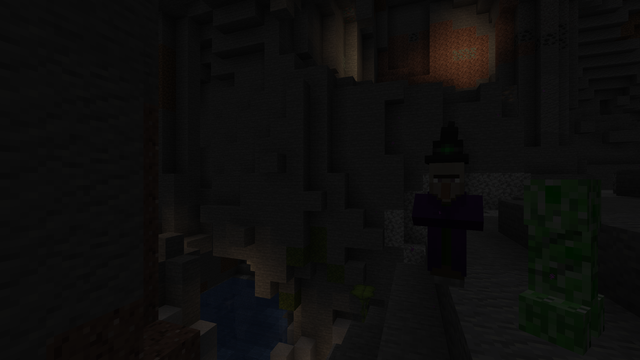creepers: (517, 171, 619, 353)
sorcieres: (425, 156, 472, 292)
